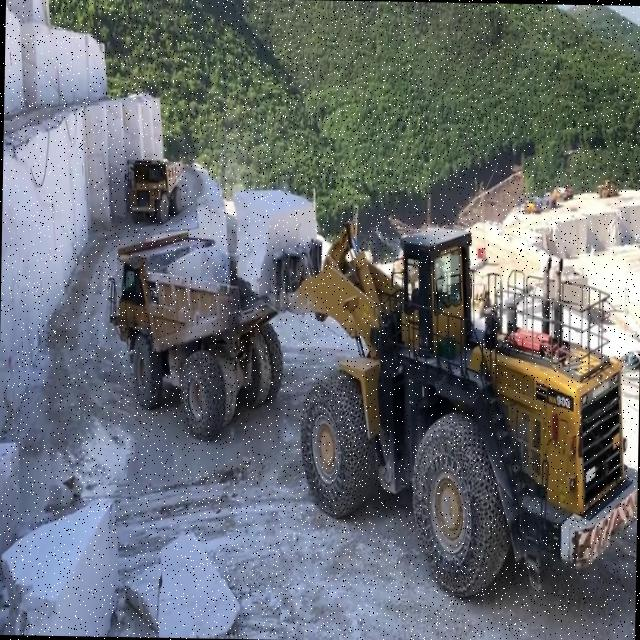Dump Truck: (100, 227, 284, 437), (130, 159, 188, 215)
Loader: (280, 214, 636, 590)
